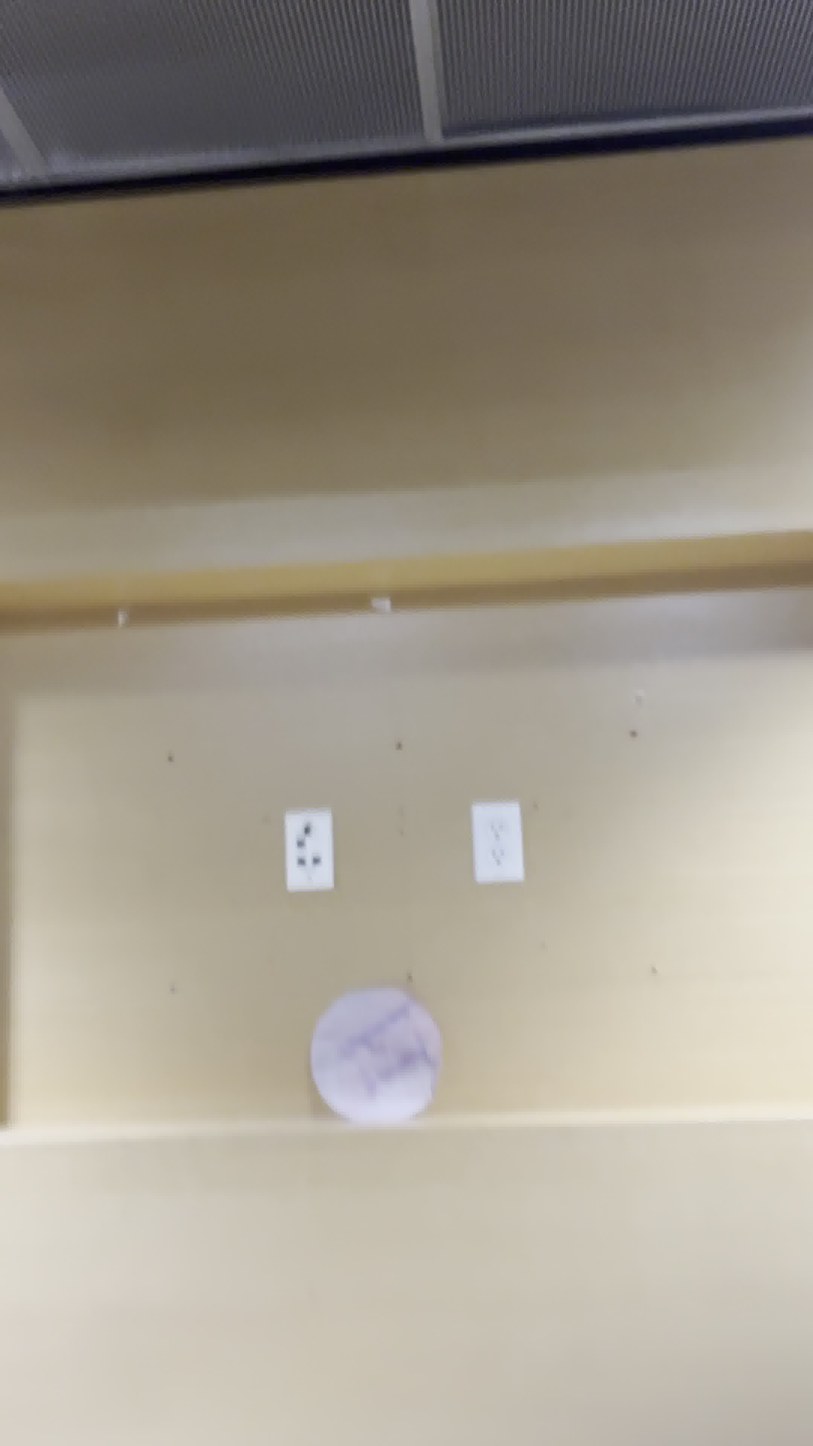Target: (307, 990, 441, 1124)
